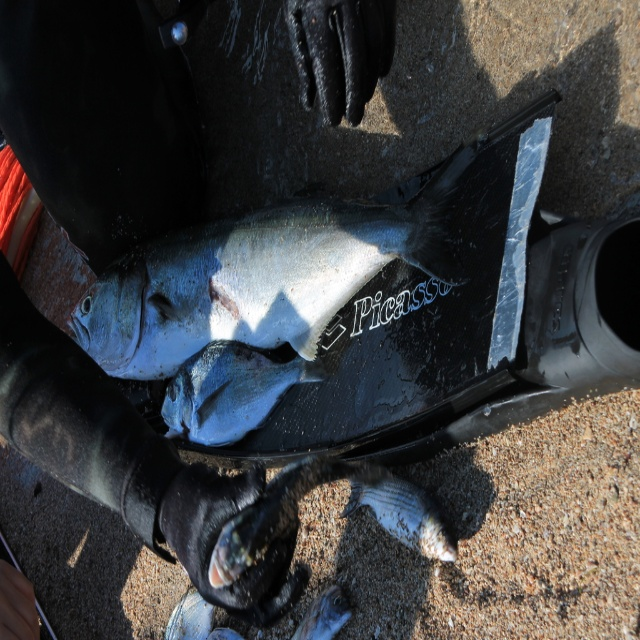Fish: (67, 137, 484, 385), (159, 337, 335, 445), (332, 460, 460, 567), (285, 582, 355, 639), (164, 587, 214, 639), (203, 625, 251, 639)
